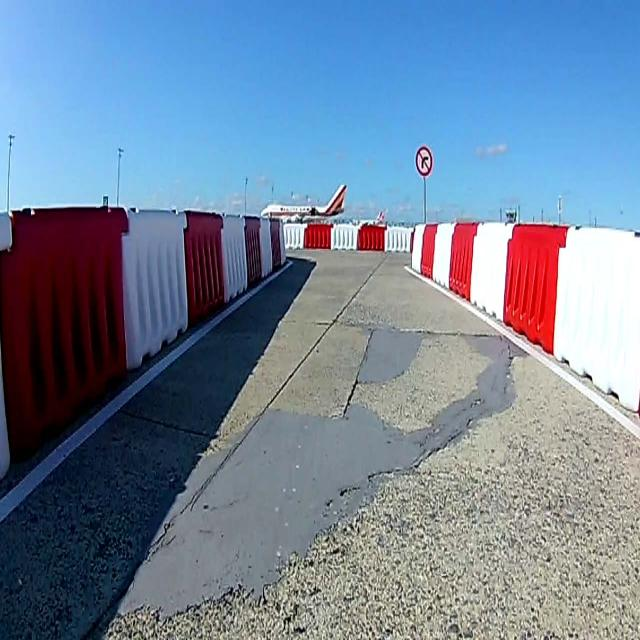sagadonulmez: (416, 146, 432, 175)
